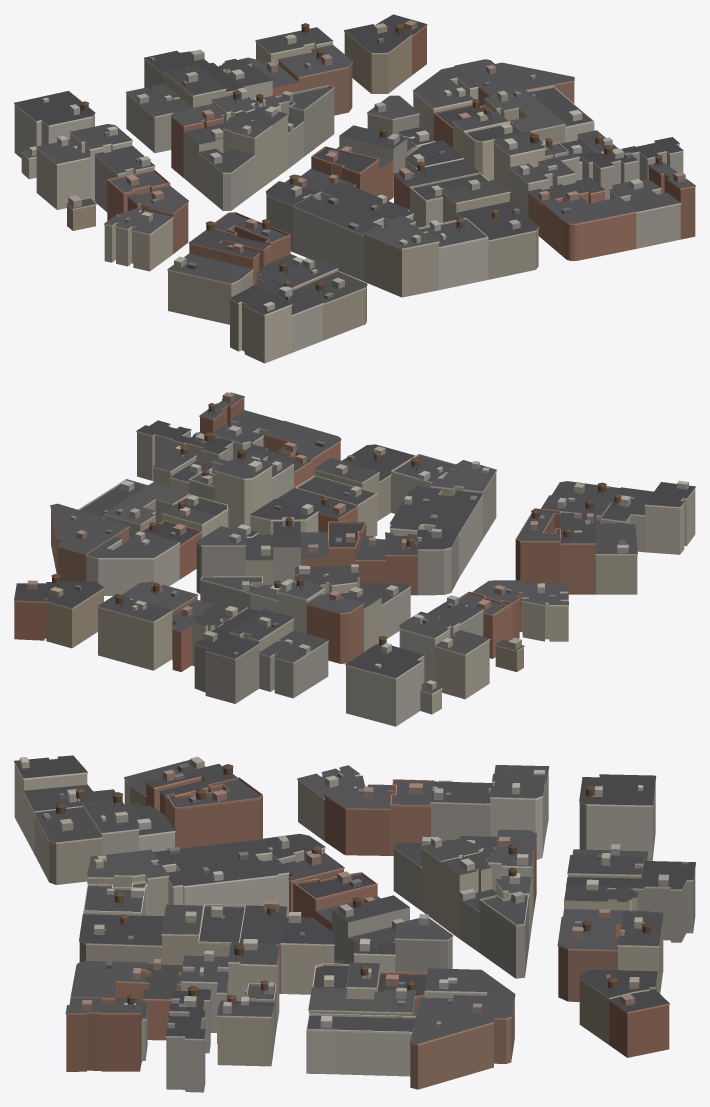
Rendered from 4_1.bld.glb.
3 renders of one model, top to bottom at view 1: azimuth 30°, elevation 25°; view 2: azimuth 150°, elevation 25°; view 3: azimuth 270°, elevation 25°, orthographic. The views are drawn at different scales.
Visible parts, largest first — view 1: 4_1; view 2: 4_1; view 3: 4_1.
Part boxes in pixels (bbox=[...]): 4_1: bbox=[14, 14, 695, 363]; 4_1: bbox=[14, 392, 695, 726]; 4_1: bbox=[14, 755, 695, 1092].
Size of the model in its own units: 278 by 36 by 280.
